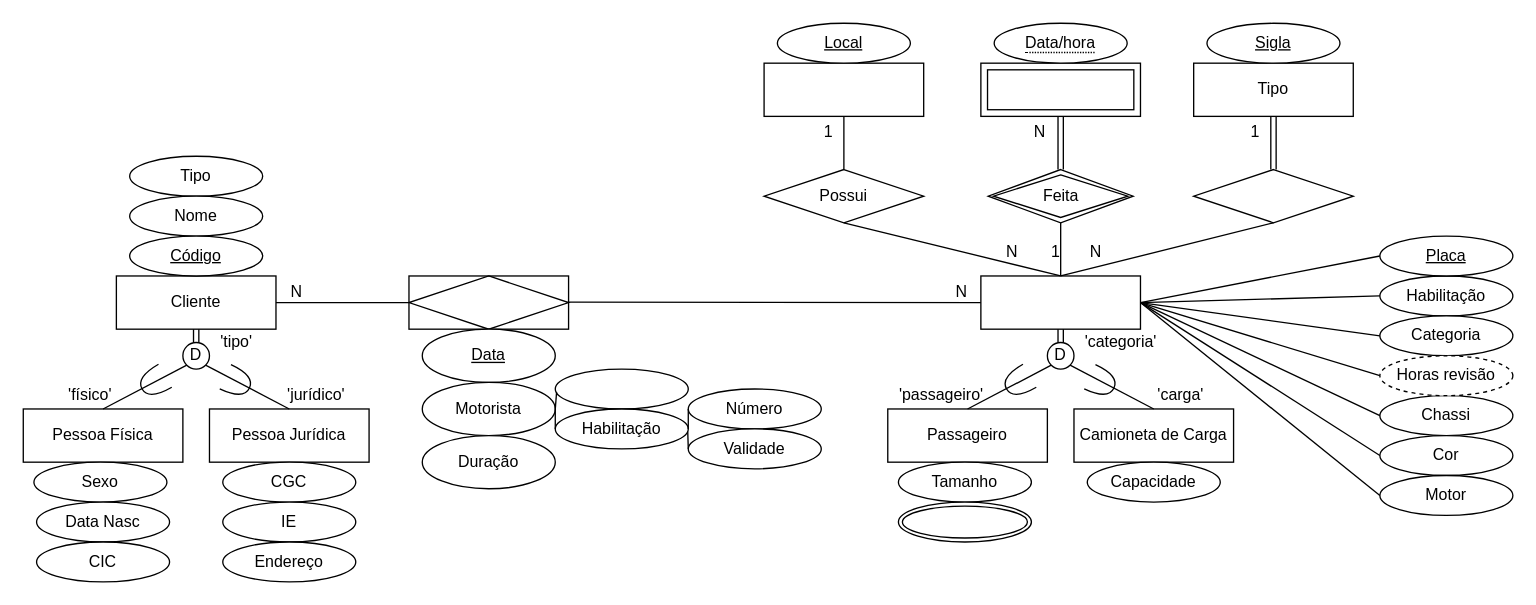
Image size: 1536x605. Some labels were removed from this diagram. Each missing label, with the centre of its shape:
Acessórios: (x=964, y=521)
Filial: (x=843, y=89)
ID: (x=621, y=388)
Pertence: (x=1272, y=195)
Reserva: (x=488, y=302)
Revisão: (x=1060, y=89)
Veículo: (x=1060, y=302)
